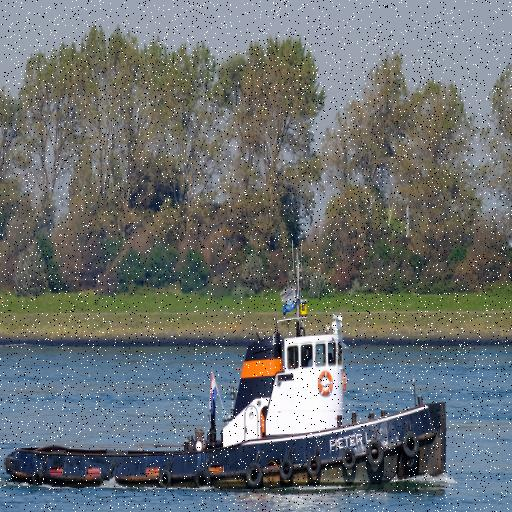tugboat: (1, 299, 452, 499)
